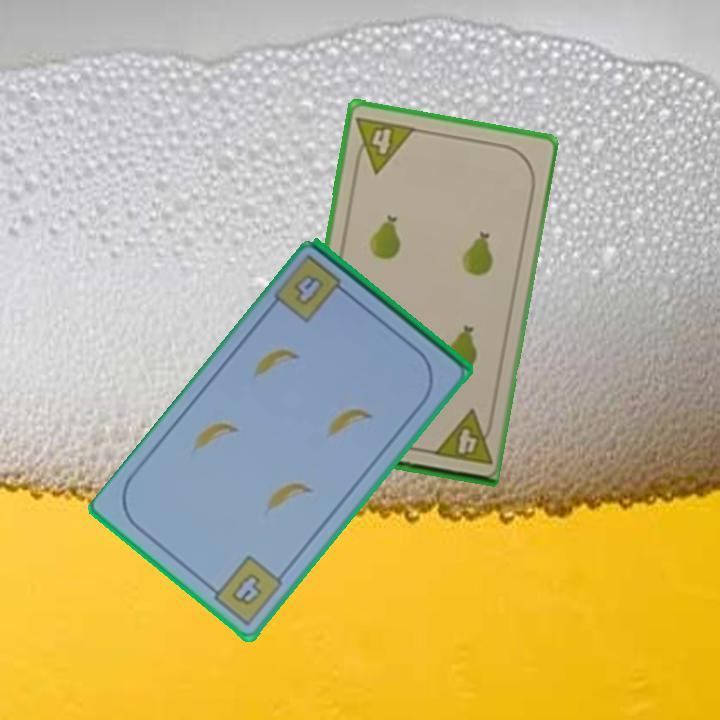4b: (204, 552, 286, 629), (290, 271, 327, 310)
4p: (350, 113, 418, 176), (428, 406, 497, 468)
